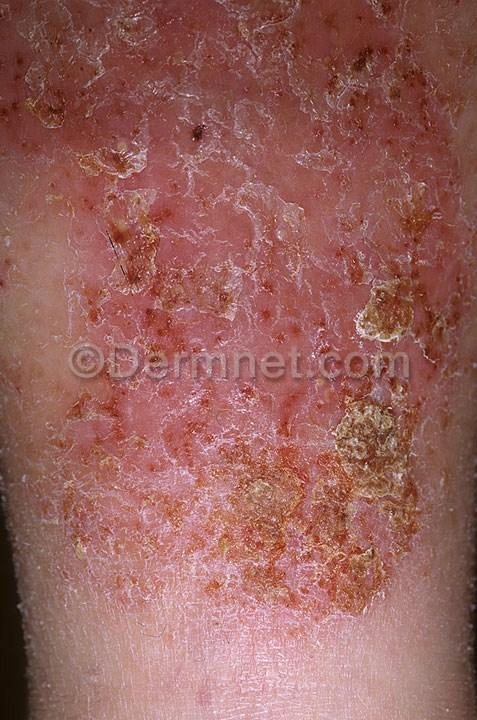Eczema: (58, 377, 455, 635), (43, 155, 477, 340), (0, 0, 477, 150)
